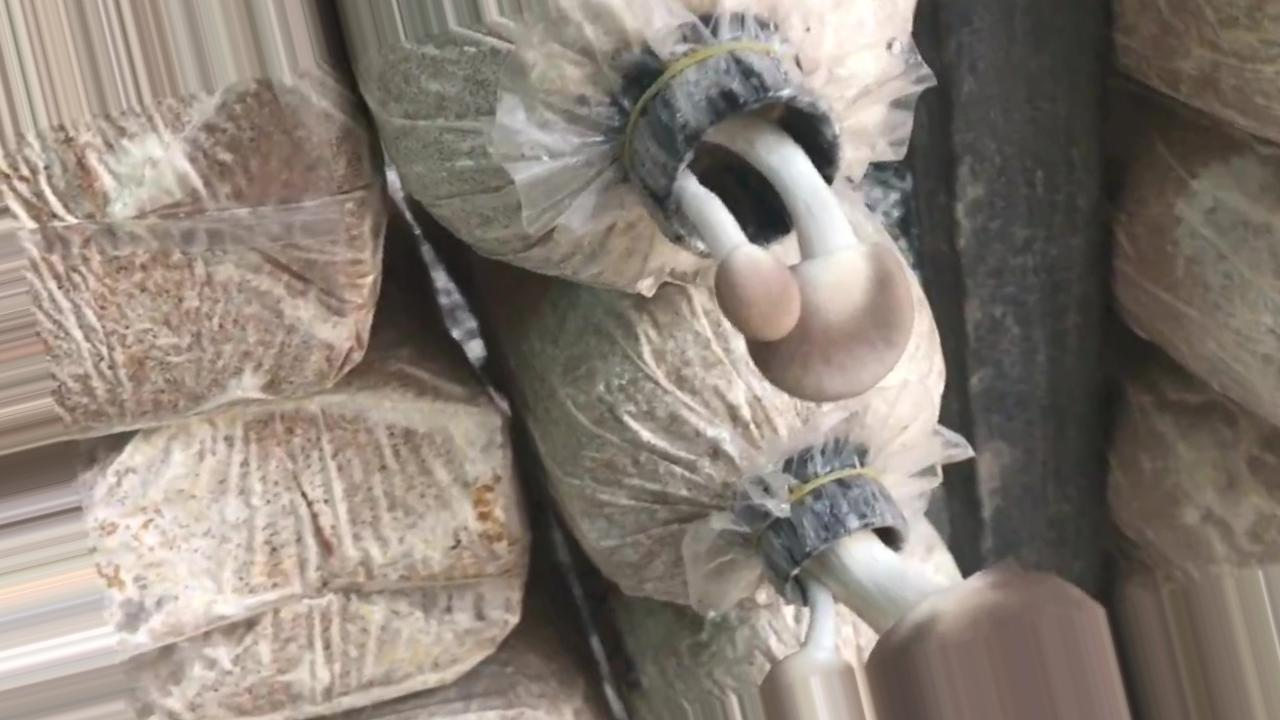nam: (628, 43, 912, 402), (762, 467, 1130, 720)
